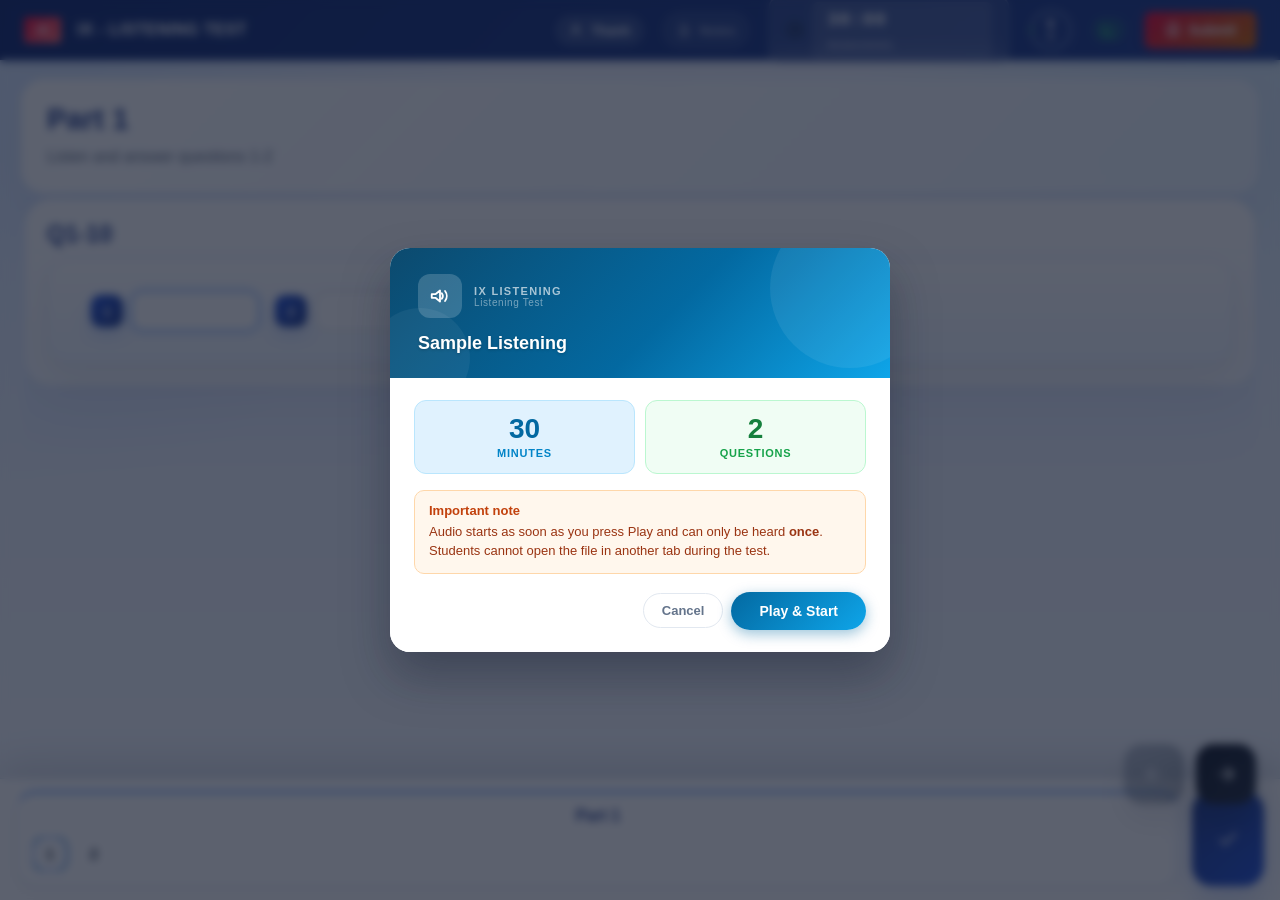
it: Listening start gate (play modal) › does not bind a fresh start to an expired empty active attempt from the same user
Click the button "Play & Start": [799, 611] box [731, 592, 866, 630]
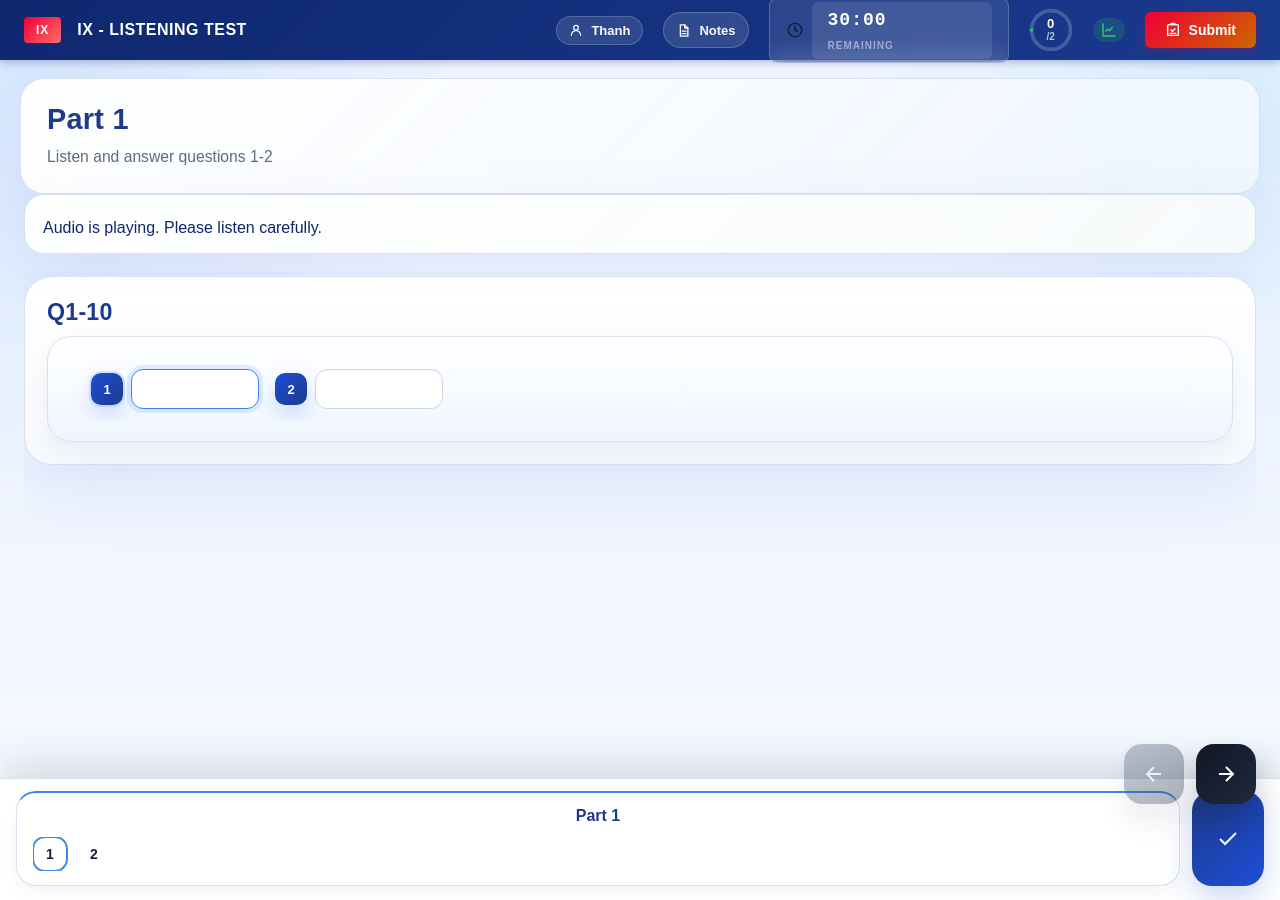
expect the dialog is gone: met
